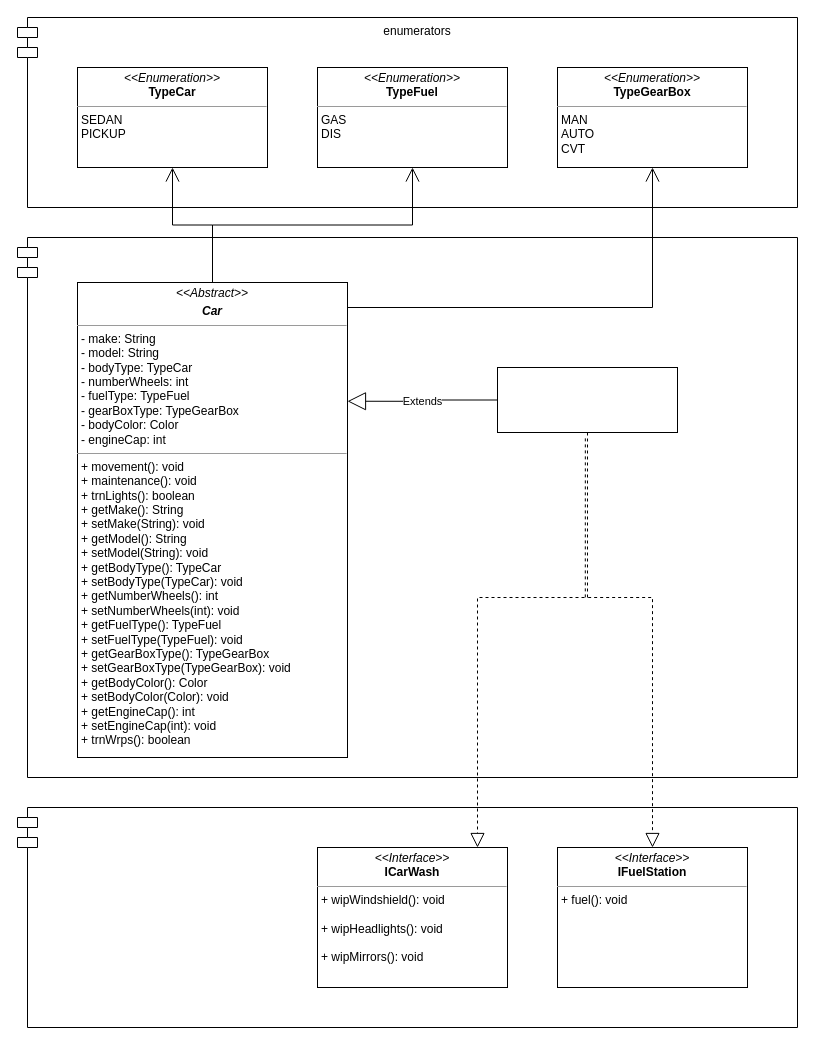
This 815x1045 diagram has some shape labels left out. The shapes that lost their labels are listed below. From the top down, each one's box as (x1, y1, x2, y2) in pixels, then its label:
(496, 366, 678, 432): Pickup - loadCap: int
(16, 236, 798, 778): classes
(16, 806, 798, 1028): interfaces
